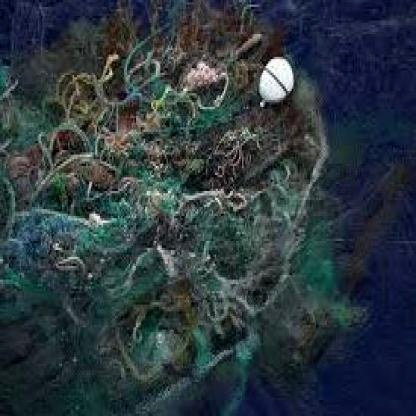net: (47, 32, 318, 361)
